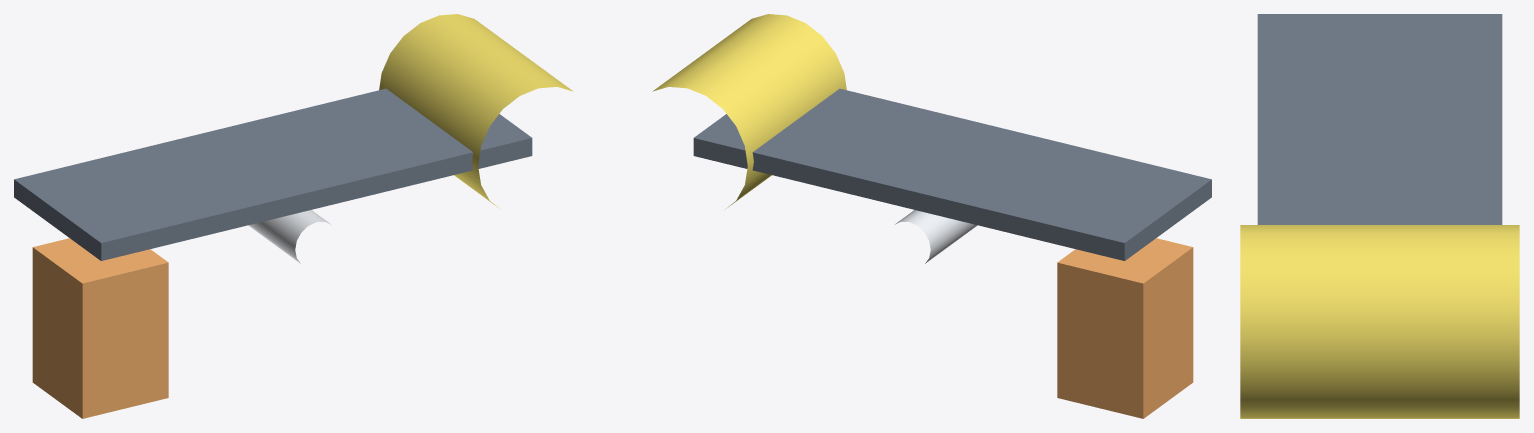
File: belt_conveyor_material_handling.glb
3 renders of one model, left to right at view 1: azimuth 30°, elevation 25°; view 2: azimuth 150°, elevation 25°; view 3: azimuth 270°, elevation 25°, orthographic. The views are drawn at different scales.
Visible parts, largest first — view 1: ConveyorRubberBeltTrough, GravityTakeUpTensionWeight, MotorizedHeadDrivePulley, ThreeRollTroughingIdlerSet; view 2: ConveyorRubberBeltTrough, GravityTakeUpTensionWeight, MotorizedHeadDrivePulley, ThreeRollTroughingIdlerSet; view 3: MotorizedHeadDrivePulley, ConveyorRubberBeltTrough.
Boxes of the visible parts, left/top/right/bottom form: ConveyorRubberBeltTrough: left=14, top=88, right=532, bottom=260; GravityTakeUpTensionWeight: left=32, top=238, right=168, bottom=418; MotorizedHeadDrivePulley: left=379, top=14, right=573, bottom=208; ThreeRollTroughingIdlerSet: left=248, top=210, right=330, bottom=263; ConveyorRubberBeltTrough: left=693, top=88, right=1211, bottom=260; GravityTakeUpTensionWeight: left=1057, top=238, right=1193, bottom=418; MotorizedHeadDrivePulley: left=652, top=14, right=846, bottom=208; ThreeRollTroughingIdlerSet: left=895, top=210, right=977, bottom=263; MotorizedHeadDrivePulley: left=1240, top=225, right=1519, bottom=418; ConveyorRubberBeltTrough: left=1257, top=14, right=1502, bottom=224.
Size of the model in its own units: 2.28 by 1.08 by 0.8.
